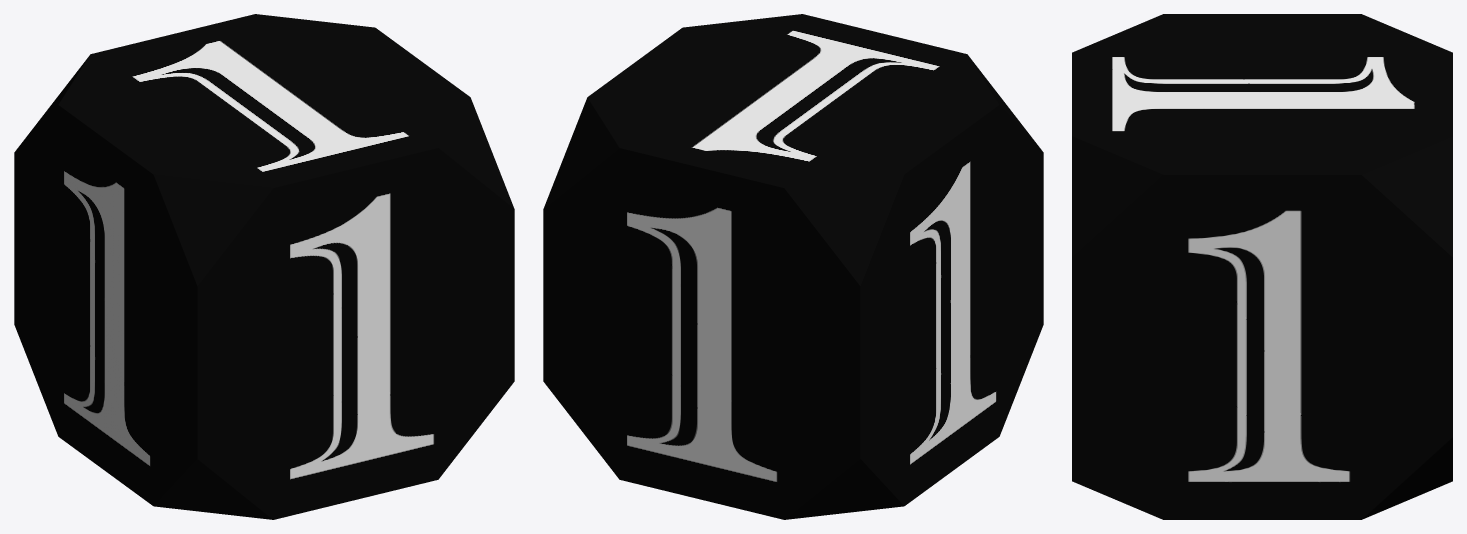
The model's file is BlockBase.fbx.
The picture shows the model from 3 angles, left to right: view 1: azimuth 30°, elevation 25°; view 2: azimuth 150°, elevation 25°; view 3: azimuth 270°, elevation 25°; orthographic projection. The views are drawn at different scales.
Visible parts, largest first — view 1: Cube; view 2: Cube; view 3: Cube.
Part boxes in pixels (x1,y1,x2,y2): Cube: (14, 14, 514, 519); Cube: (543, 14, 1043, 519); Cube: (1072, 14, 1452, 519).
Size of the model in its own units: 50 by 50 by 50.
Materials: 1 (1 with a texture image).
